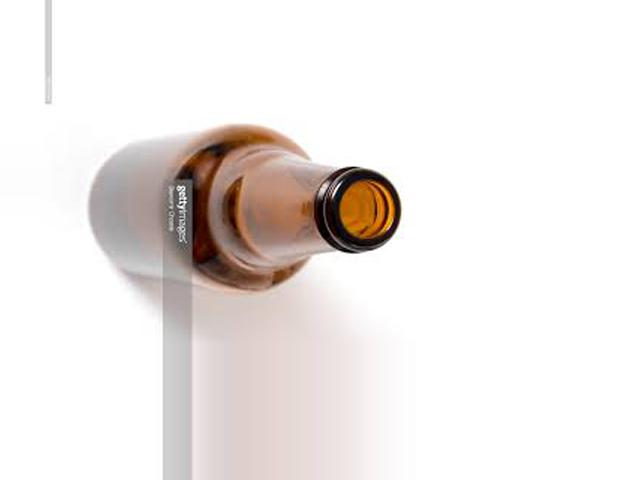beer: (86, 125, 401, 294)
